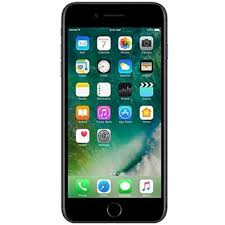iphone: (60, 1, 171, 225)
iphone7: (58, 1, 169, 223)
